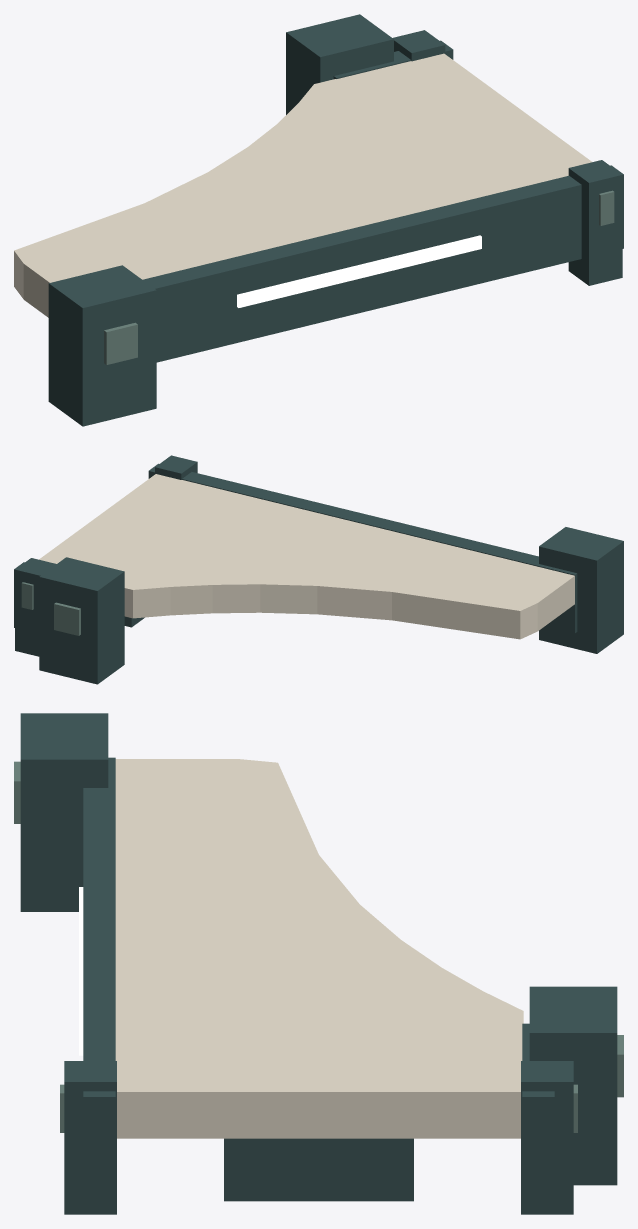
Rendered from Pier_Angled_75_lab.glb.
3 views of the same model, one above another, from view 1: azimuth 30°, elevation 25°; view 2: azimuth 150°, elevation 25°; view 3: azimuth 270°, elevation 25° (orthographic). The views are drawn at different scales.
Visible parts, largest first — view 1: Pier_Angled_75; view 2: Pier_Angled_75; view 3: Pier_Angled_75.
Boxes of the visible parts, bbox=[...] form: Pier_Angled_75: bbox=[14, 14, 623, 426]; Pier_Angled_75: bbox=[14, 455, 623, 684]; Pier_Angled_75: bbox=[14, 713, 623, 1214].
Size of the model in its own units: 5.75 by 1.15 by 4.17.
